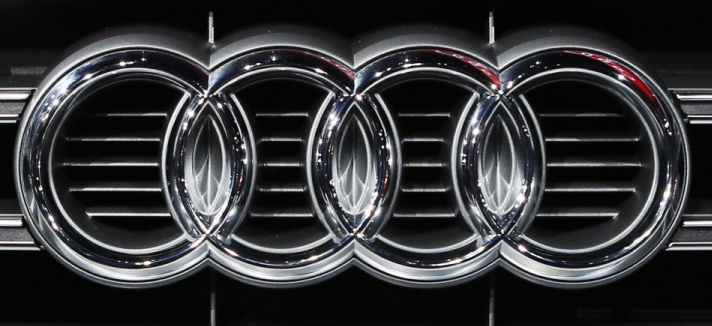audi: (8, 22, 697, 297)
